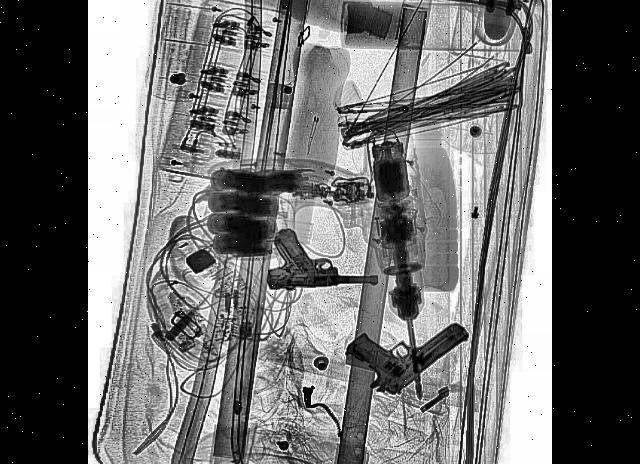Gun: (344, 268, 471, 418), (265, 223, 377, 292)
